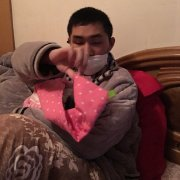face_mask: (70, 26, 108, 73)
